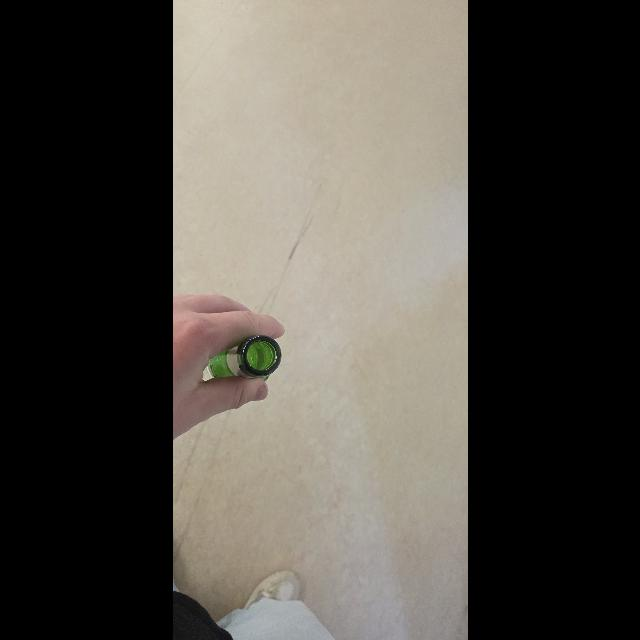Glass: (204, 330, 284, 384)
